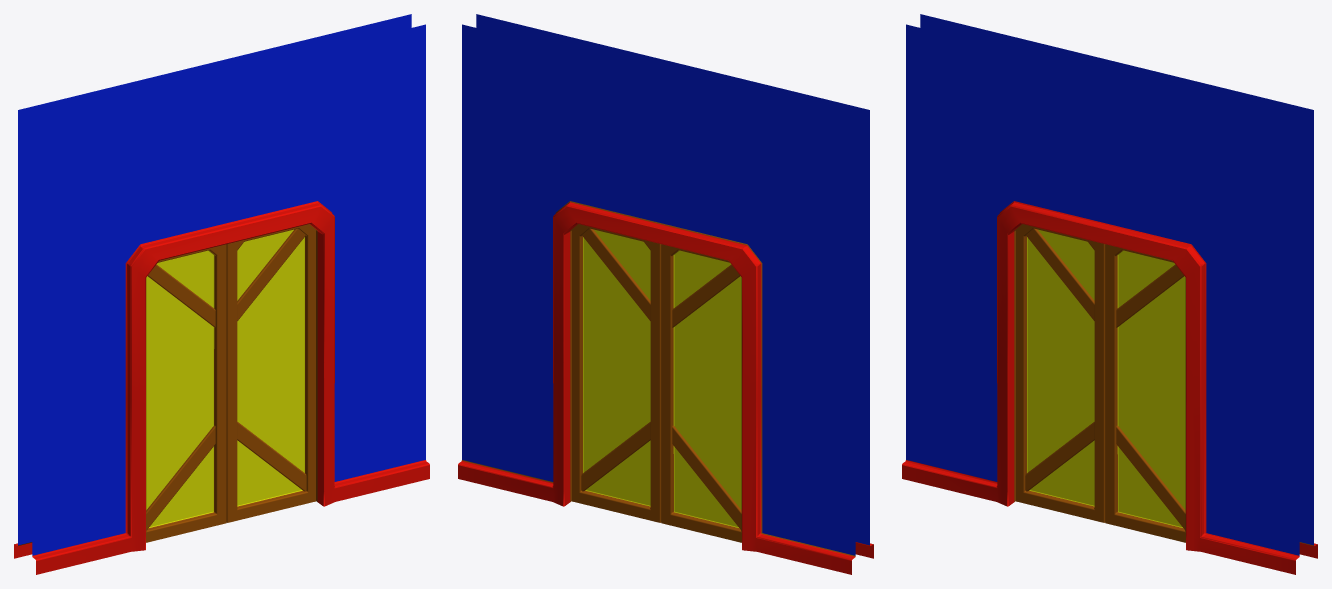
File: Door.fbx
3 views of the same model, side by side, from view 1: azimuth 30°, elevation 25°; view 2: azimuth 150°, elevation 25°; view 3: azimuth 330°, elevation 25° (orthographic).
Visible parts, largest first — view 1: DoorFrame, DoorRight, DoorLeft; view 2: DoorFrame, DoorRight, DoorLeft; view 3: DoorFrame, DoorLeft, DoorRight.
Part boxes in pixels (x1,y1,x2,y2): DoorFrame: (14,14,429,574); DoorRight: (226,224,315,522); DoorLeft: (146,244,226,542); DoorFrame: (458,14,873,574); DoorRight: (572,224,661,522); DoorLeft: (661,244,741,542); DoorFrame: (902,14,1317,574); DoorLeft: (1016,224,1105,522); DoorRight: (1105,244,1185,542).
Size of the model in its own units: 239 by 262 by 27.58.
